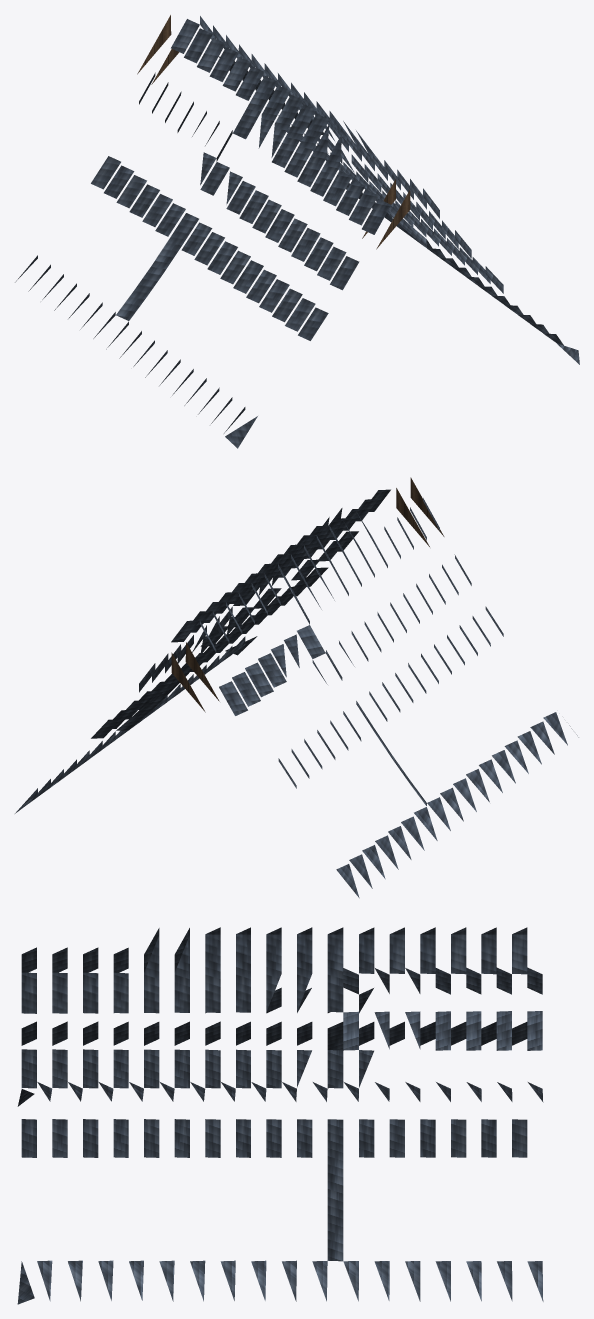
File: Roof_Slate_6x8_LOD2.gltf
3 views of the same model, one above another, from view 1: azimuth 30°, elevation 25°; view 2: azimuth 150°, elevation 25°; view 3: azimuth 270°, elevation 25° (orthographic). The views are drawn at different scales.
Visible parts, largest first — view 1: Roof_Slate_6x8_LOD2; view 2: Roof_Slate_6x8_LOD2; view 3: Roof_Slate_6x8_LOD2.
Boxes of the visible parts, box(x1,y1,x2,y2) form: Roof_Slate_6x8_LOD2: box(15, 15, 579, 448); Roof_Slate_6x8_LOD2: box(15, 477, 578, 898); Roof_Slate_6x8_LOD2: box(17, 927, 543, 1304).
Bounding box in the file's own units: 8.25 × 5.17 × 9.66.
Materials: 2 (2 with a texture image).
